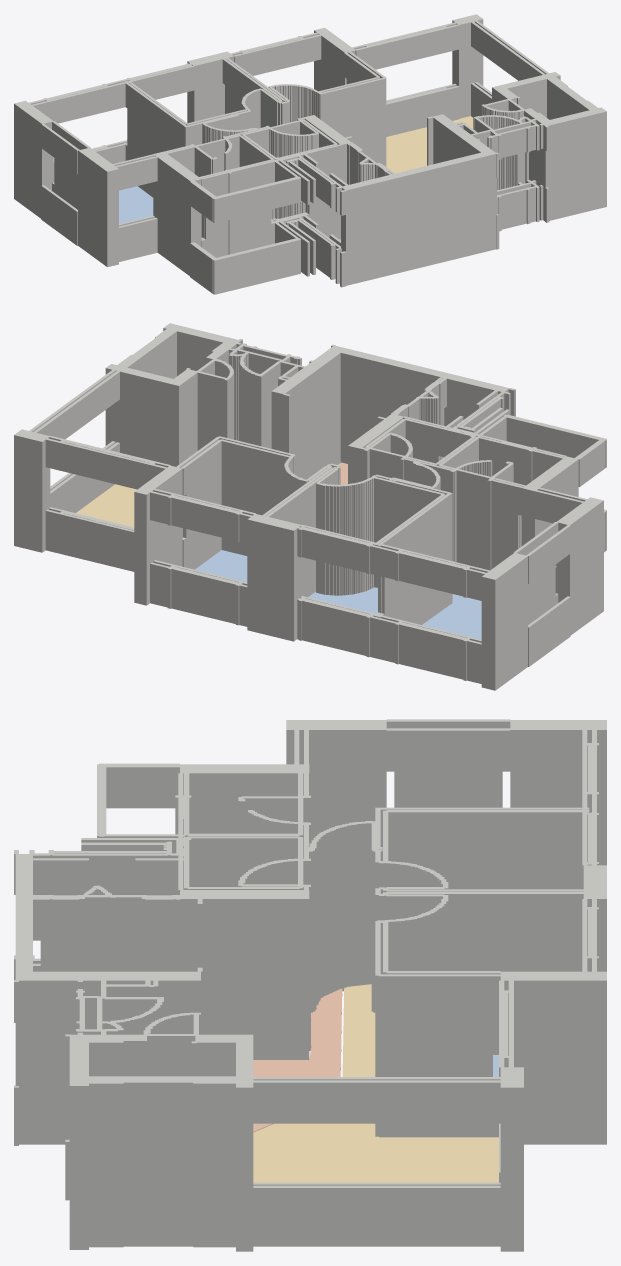
3 views of the same model, one above another, from view 1: azimuth 30°, elevation 25°; view 2: azimuth 150°, elevation 25°; view 3: azimuth 270°, elevation 25° (orthographic). The views are drawn at different scales.
Visible parts, largest first — view 1: walls, room:living:8, room:bedroom:7; view 2: walls, room:bedroom:7, room:living:8, room:bedroom:6, room:bedroom:0; view 3: walls, room:living:8, room:kitchen:2.
Boxes of the visible parts, x1=… form: walls: x1=14, y1=14, x2=606, y2=294; room:living:8: x1=386, y1=116, x2=473, y2=173; room:bedroom:7: x1=119, y1=186, x2=153, y2=223; walls: x1=14, y1=323, x2=606, y2=690; room:bedroom:7: x1=422, y1=594, x2=481, y2=639; room:living:8: x1=76, y1=484, x2=136, y2=527; room:bedroom:6: x1=195, y1=550, x2=247, y2=582; room:bedroom:0: x1=308, y1=587, x2=377, y2=613; walls: x1=14, y1=719, x2=606, y2=1251; room:living:8: x1=253, y1=984, x2=498, y2=1182; room:kitchen:2: x1=253, y1=988, x2=342, y2=1132.
Size of the model in its own units: 13.49 by 2.8 by 9.18.
